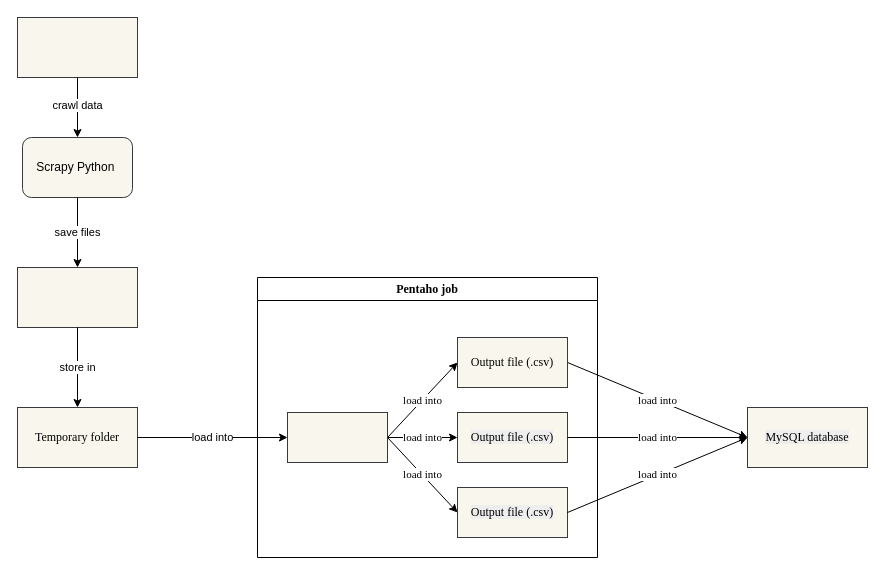
Image size: 885x575. Some labels were removed from this diagram. Here are the shapes that lost their labels. From the top down, the centre of each, then its label:
At point 77,47: "Google Ads API".
At point 77,297: "Raw Data (.csv)".
At point 337,437: "ETL Process".
